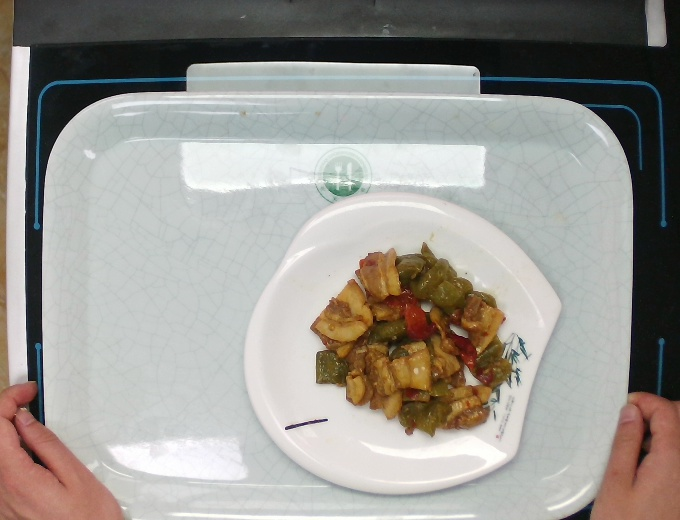JYsf-Mian_Pan: (240, 188, 564, 496)
